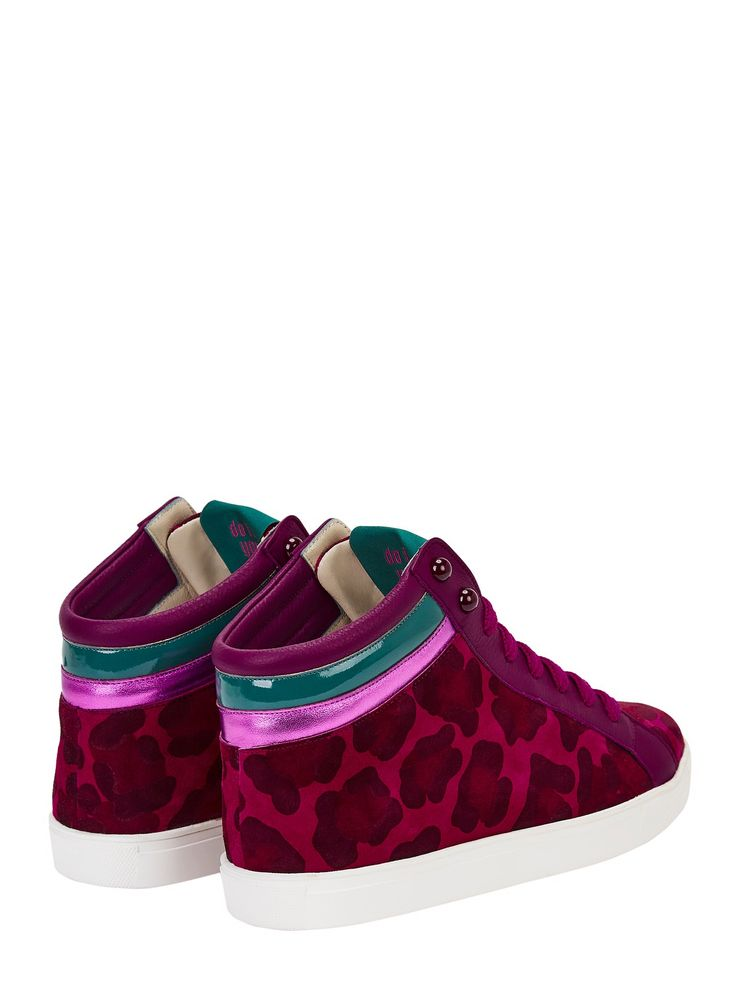gamuza: (48, 498, 685, 874)
